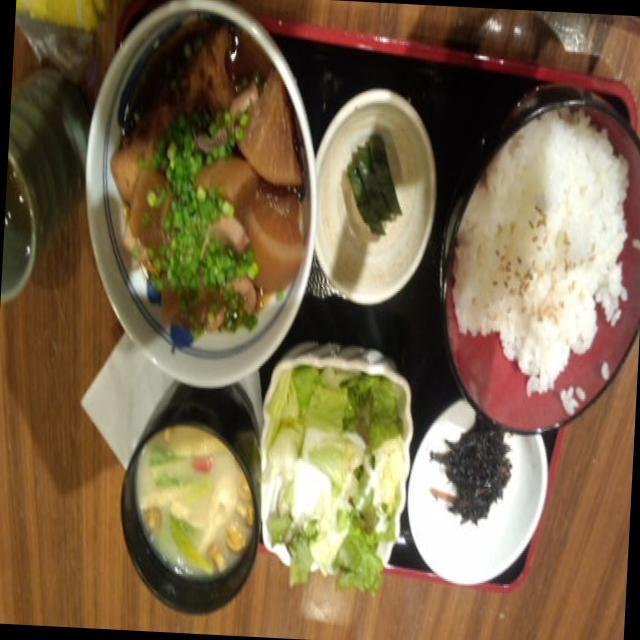Rice: (448, 128, 630, 394)
